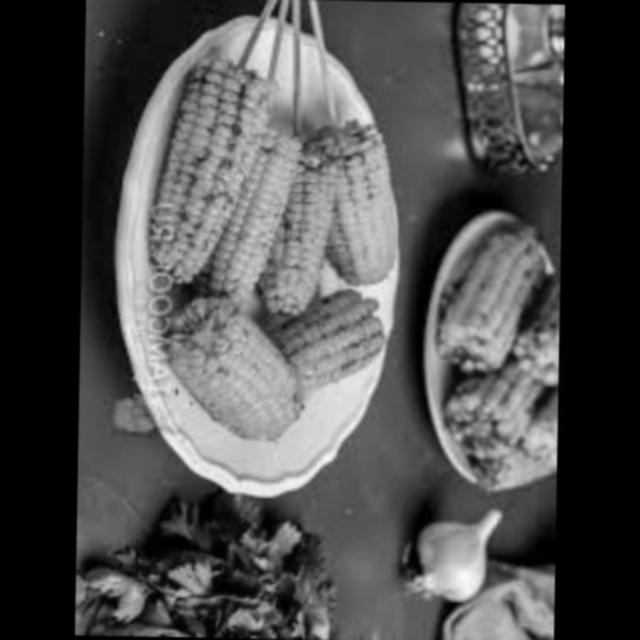ngu coc: (150, 45, 287, 308), (158, 304, 312, 446), (204, 123, 306, 334), (441, 218, 544, 388), (318, 118, 409, 297), (264, 288, 404, 400), (262, 136, 342, 332), (440, 346, 542, 458), (496, 252, 562, 393), (485, 382, 559, 506)
